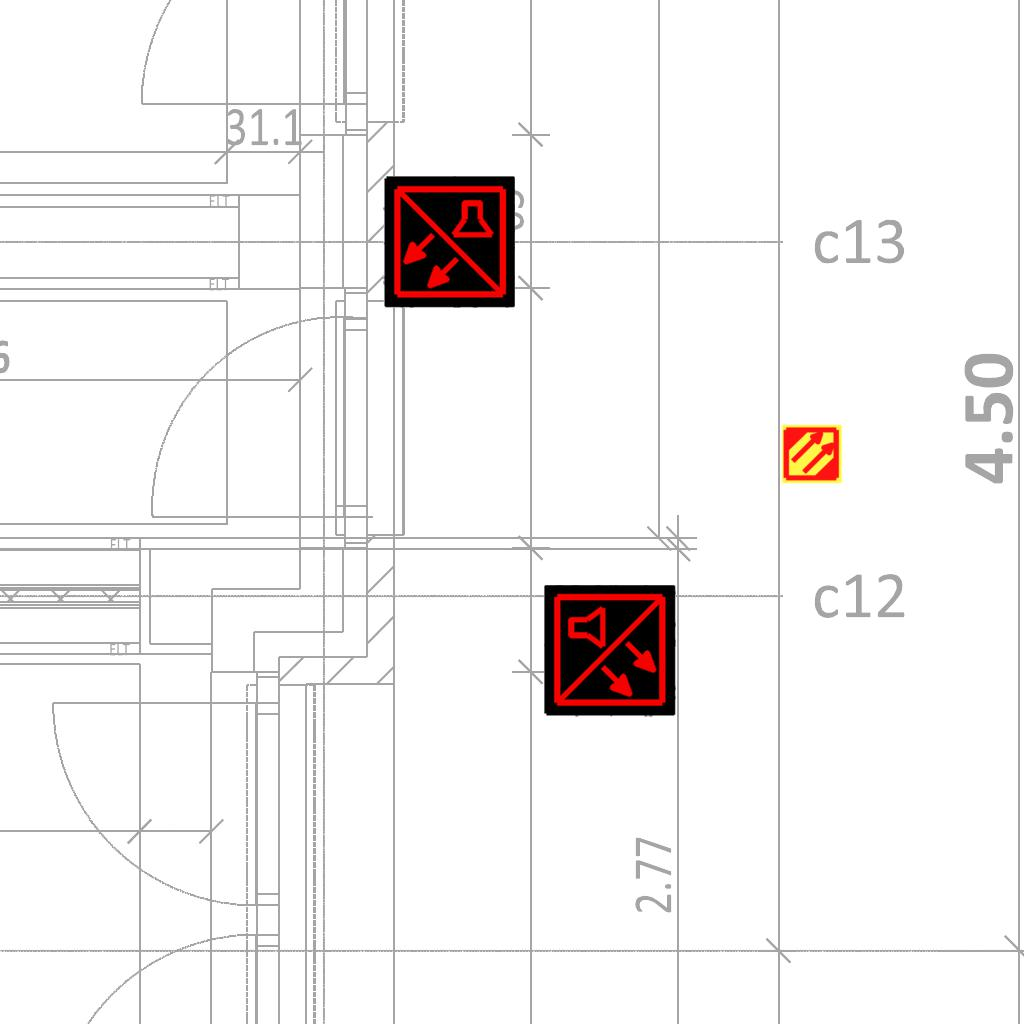ASR_Ansaugrauchmelder: (781, 423, 843, 485)
OKW_Multisensormelder_(Kombination_optischer_Rauch-Kahlenmonoxid_Waerme-Melder): (383, 176, 515, 308), (544, 585, 676, 717)
